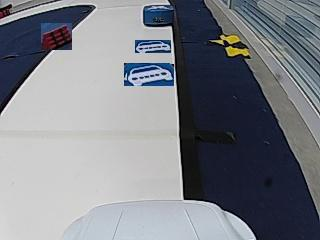prop: (143, 5, 173, 27)
